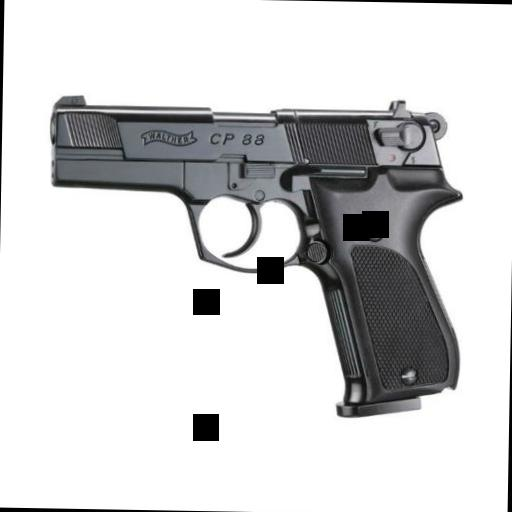Handgun: (41, 88, 468, 420)
